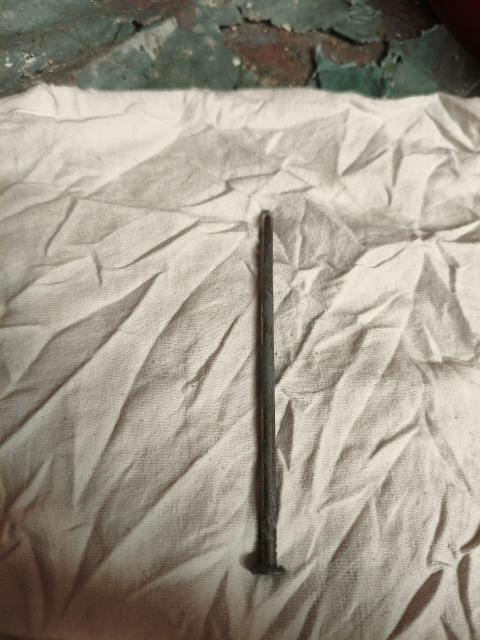Metal: (243, 195, 292, 577)
